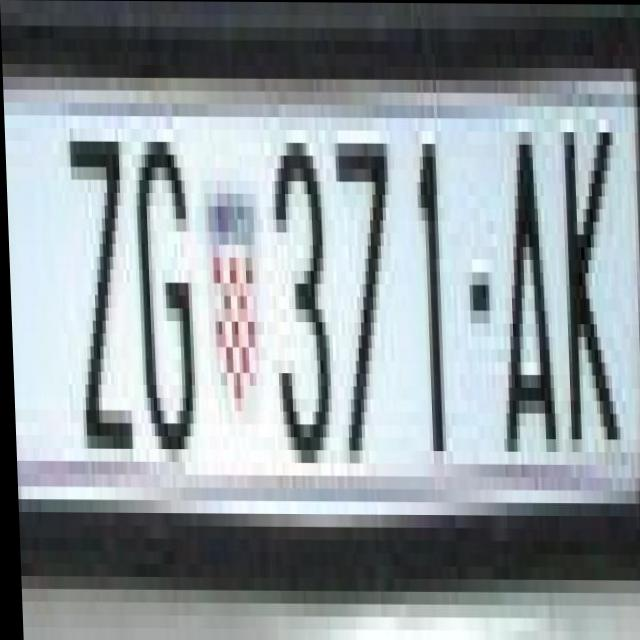1: (407, 117, 450, 464)
3: (262, 130, 330, 463)
7: (326, 117, 391, 463)
A: (485, 118, 553, 451)
G: (129, 116, 195, 475)
K: (552, 93, 624, 464)
Z: (65, 128, 130, 462)
